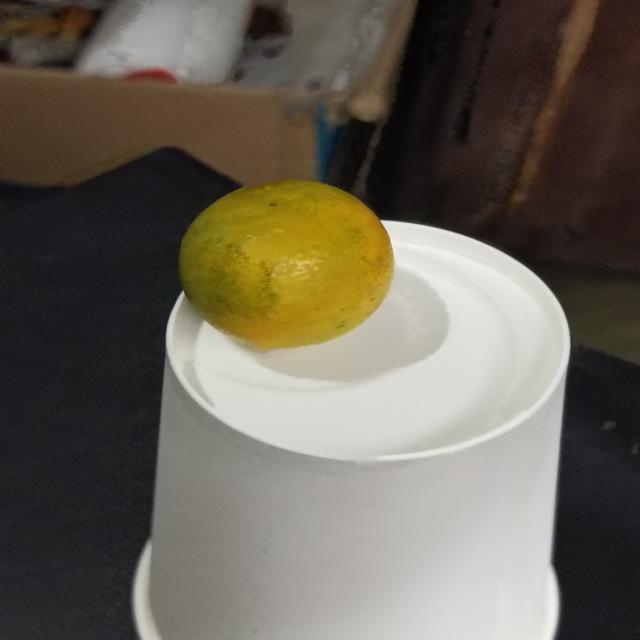greening: (171, 174, 404, 354)
